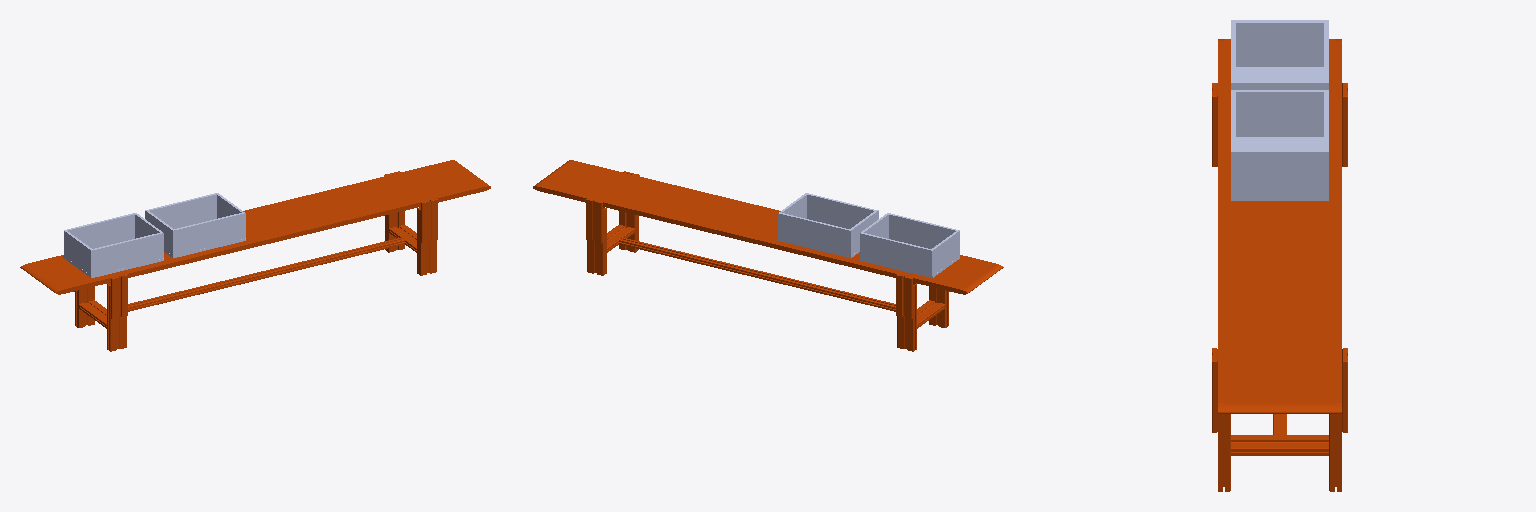
URDF robot description (conveyor_belt2):
<?xml version="1.0"?>
<robot name="conveyor_belt2">

<!-- conveyor belt is just a long flat box for objects to slide on it -->

<!-- world link -->
<link name="world"/>

<!-- base_link and its fixed joint -->
	<joint name="fixed" type="fixed">
		<parent link="world"/>
		<child link="belt_visual"/>
		<origin xyz="0.9 0.325 0.0" rpy="0.0 0.0 -1.5708"/>
	</joint>
	

	<link name="belt_visual">
		<inertial>
			<origin xyz="1.1327E-16 -3.3286E-17 0.58819" rpy="0 0 0" />
			<mass value="71.953" />
			<inertia ixx="7.5972" ixy="-1.394E-14" ixz="1.9328E-17" iyy="0.99673" iyz="-9.2056E-18" izz="8.1168" />
		</inertial>
		<visual>
			<origin xyz="0 0 0" rpy="0 0 0" />
			<geometry>
				<mesh filename="package://gantry/meshes/conveyor_belt.dae" />
			</geometry>
			<material name="blue">
				<color rgba="0.8 0.325 0.06 1" />
			</material>
		</visual>
		<collision>
			<origin xyz="0.0 0.0 0" rpy="1.570796327 0.0 1.570796327"/>
			<geometry>
				<mesh filename="package://gantry/meshes/conveyor_simple.dae" />
			</geometry>
		</collision>
	</link>

	<!-- <link name="test_cube">
		<visual>
			<origin xyz="0.0 0.0 0.37" rpy="0.0 0.0 0.0"/>
			<geometry>
				<box size="0.463 1.2 0.74"/>
			</geometry>
			<material name="purple">
				<color rgba="1 0 1 0.2" />
			</material>
		</visual>
	</link> -->

	<joint name="belt_joint" type="prismatic">
		<origin xyz="0.0 0.0 0.589" rpy="0.0 0.0 0.0"/>
		<parent link="belt_visual"/>
		<child link="belt_moving"/>
		<axis xyz="0 -1 0"/>
		<limit lower="0.0" upper="1" effort="1000" velocity="1000"/>
	</joint>

	<link name="belt_moving">
		<inertial>
			<origin xyz="0.0 0.0 0.0" rpy="0.0 0.0 0.0"/>
			<mass value="100"/>
			<inertia ixx="0.0" ixy="0.0" ixz="0.0" iyy="0.0" iyz="0.0" izz="0.0"/>
		</inertial>
		<!-- <visual>
			<origin xyz="0.0 0.0 0.0005" rpy="0.0 0.0 0.0"/>
			<geometry>
				<box size="0.425 1.2 0.001"/>
			</geometry>
			<material name="test">
				<color rgba="1 0 1 1" />
			</material>
		</visual> -->
		<collision>
			<origin xyz="0.0 0.5 0.0005" rpy="0.0 0.0 0.0"/>
			<geometry>
				<box size="0.425 3.85 0.001"/>
			</geometry>
		</collision>
	</link>
	<link name="Big_box">
        
	<inertial>
            <origin xyz="-2.6593E-06 5.7892E-06 0.0070718" rpy="0 0 0" />
            <mass value="0.0020128" />
            <inertia ixx="6.7515E-08" ixy="-2.2805E-12" ixz="1.831E-12" iyy="6.7541E-08" iyz="-9.4715E-13" izz="6.9139E-08" />
        </inertial>

        <visual>
            <origin xyz="0 0 0" rpy="0 0 0" />
            <geometry>
                <mesh filename="package://gantry/meshes/Big_box.dae" />
            </geometry>
            <material name="">
                <color rgba="0.79216 0.81961 0.93333 1" />
            </material>
        </visual>
        <collision>
            <origin xyz="0 0 0" rpy="0 0 0" />
            <geometry>
                <mesh filename="package://gantry/meshes/Big_box.dae" />
            </geometry>
        </collision>
    </link>
    <joint name="Big_box_Joint" type="fixed">
        <origin xyz="0.4 0.325 0.69" rpy="0 -1.5708 1.5708" />
        <parent link="world" />
        <child link="Big_box" />
        <axis xyz="0 0 1" />
    </joint>
	<link name="Big_box2">
        
	<inertial>
            <origin xyz="-2.6593E-06 5.7892E-06 0.0070718" rpy="0 0 0" />
            <mass value="0.0020128" />
            <inertia ixx="6.7515E-08" ixy="-2.2805E-12" ixz="1.831E-12" iyy="6.7541E-08" iyz="-9.4715E-13" izz="6.9139E-08" />
        </inertial>

        <visual>
            <origin xyz="0 0 0" rpy="0 0 0" />
            <geometry>
                <mesh filename="package://gantry/meshes/Big_box.dae" />
            </geometry>
            <material name="">
                <color rgba="0.79216 0.81961 0.93333 1" />
            </material>
        </visual>
        <collision>
            <origin xyz="0 0 0" rpy="0 0 0" />
            <geometry>
                <mesh filename="package://gantry/meshes/Big_box.dae" />
            </geometry>
        </collision>
    </link>
    <joint name="Big_box_Joint2" type="fixed">
        <origin xyz="-0.275 0.325 0.69" rpy="0 -1.5708 1.5708" />
        <parent link="world" />
        <child link="Big_box2" />
        <axis xyz="0 0 1" />
    </joint>
    <gazebo>
     <plugin name="conveyor_belt_plugin" filename="libROSConveyorBeltPlugin.so">
        <robot_namespace>/</robot_namespace>
        <link>belt_moving</link>
        <update_rate>10</update_rate>
        <power>10</power>
        <max_velocity>10.2</max_velocity>
     </plugin>
     <mu1>0</mu1>
     <mu2>0</mu2>
     <material>Gazebo/FlatBlack</material>
    </gazebo>
  <!--<gazebo reference="belt_visual">
	<material>Gazebo/Blue</material>
  </gazebo>-->

</robot>

--- Render facts (derived) ---
Views: 3 orthographic renders of the robot side by side, from view 1: azimuth 30°, elevation 25°; view 2: azimuth 150°, elevation 25°; view 3: azimuth 270°, elevation 25°.
Robot: conveyor_belt2 — 5 links, 4 joints (1 prismatic, 3 fixed); root link world; default pose: all joints at 0.
Visible links, largest first — view 1: belt_visual, Big_box2, Big_box; view 2: belt_visual, Big_box2, Big_box; view 3: belt_visual, Big_box, Big_box2.
Link boxes in pixels (bbox=[...]): belt_visual: bbox=[20, 160, 490, 351]; Big_box2: bbox=[63, 213, 163, 277]; Big_box: bbox=[145, 193, 245, 257]; belt_visual: bbox=[533, 160, 1003, 351]; Big_box2: bbox=[860, 213, 959, 277]; Big_box: bbox=[778, 193, 878, 257]; belt_visual: bbox=[1212, 39, 1347, 491]; Big_box: bbox=[1231, 90, 1328, 200]; Big_box2: bbox=[1231, 20, 1328, 89].
Bounding box of the posed robot: 3.6 × 0.5556 × 0.805 m (x, y, z).
3 mesh visuals loaded from 2 distinct referenced files (2 Collada DAE).